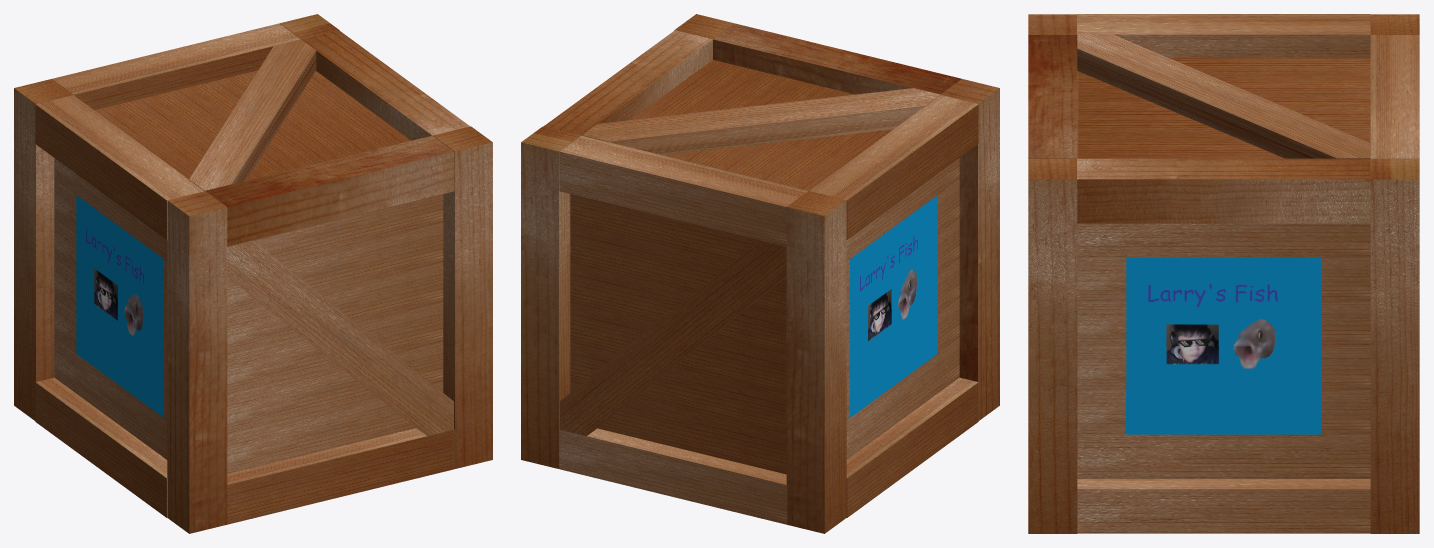
The model's file is brokencrate.fbx.
The picture shows the model from 3 angles, left to right: view 1: azimuth 30°, elevation 25°; view 2: azimuth 150°, elevation 25°; view 3: azimuth 270°, elevation 25°; orthographic projection. The views are drawn at different scales.
Parts seen in each view (by area): view 1: back left post, front left post, left top post, left cross post, back right post, left bottom post, back top post, right top post, top cross post, back bottom post, front top post, left side (+18 smaller); view 2: back right post, front right post, right top post, right cross post, top cross post, back left post, right bottom post, back top post, left top post, back bottom post, front top post, right side (+18 smaller); view 3: front top post, front right post, front left post, front bottom post, top cross post, front side, Cube.001, Cube.002, Cube.003, Cube.004, back top post, Cube.005 (+9 smaller).
Boxes of the visible parts, x1,y1,x2,y2 form: back left post: [167, 191, 227, 533]; front left post: [433, 126, 492, 468]; left top post: [205, 135, 454, 246]; left cross post: [226, 240, 453, 435]; back right post: [14, 79, 73, 420]; left bottom post: [227, 428, 454, 524]; back top post: [35, 95, 203, 239]; right top post: [52, 23, 300, 110]; top cross post: [189, 39, 316, 191]; back bottom post: [35, 377, 167, 517]; front top post: [301, 30, 469, 140]; left side: [227, 382, 443, 473]; back right post: [786, 191, 846, 533]; front right post: [521, 126, 580, 468]; right top post: [559, 135, 807, 246]; right cross post: [560, 240, 786, 435]; top cross post: [582, 88, 940, 155]; back left post: [941, 79, 999, 420]; right bottom post: [559, 428, 787, 524]; back top post: [809, 95, 978, 239]; left top post: [713, 23, 961, 94]; back bottom post: [846, 377, 978, 517]; front top post: [544, 30, 712, 135]; right side: [570, 382, 786, 474]; front top post: [1077, 158, 1370, 223]; front right post: [1370, 159, 1419, 533]; front left post: [1028, 159, 1077, 533]; front bottom post: [1077, 479, 1370, 533]; top cross post: [1077, 34, 1370, 158]; front side: [1077, 434, 1370, 478]; Cube.001: [1077, 346, 1370, 390]; Cube.002: [1077, 390, 1370, 434]; Cube.003: [1077, 257, 1370, 301]; Cube.004: [1077, 301, 1370, 345]; back top post: [1077, 14, 1370, 57]; Cube.005: [1077, 223, 1370, 257].
Size of the model in its own units: 802 by 801 by 800.
2 materials, 2 textured.
